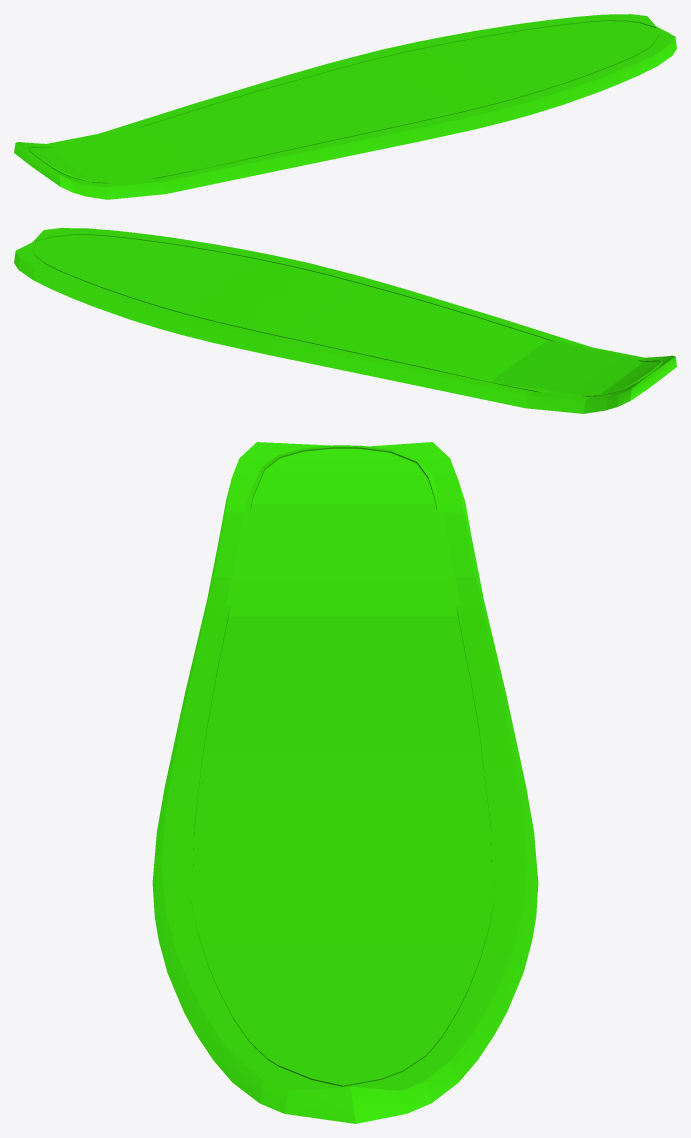
The model's file is Skate.fbx.
3 views of the same model, one above another, from view 1: azimuth 30°, elevation 25°; view 2: azimuth 150°, elevation 25°; view 3: azimuth 270°, elevation 25° (orthographic). The views are drawn at different scales.
Parts seen in each view (by area): view 1: Plane.005, Plane, Plane.006; view 2: Plane.005, Plane, Plane.006; view 3: Plane.005, Plane, Plane.006.
Boxes of the visible parts, x1,y1,x2,y2 form: Plane.005: [28, 21, 658, 182]; Plane: [14, 14, 676, 199]; Plane.006: [28, 19, 658, 183]; Plane.005: [31, 234, 660, 395]; Plane: [14, 228, 676, 413]; Plane.006: [31, 233, 663, 396]; Plane.005: [188, 448, 496, 1085]; Plane: [152, 442, 538, 1123]; Plane.006: [188, 445, 496, 1086].
Bounding box in the file's own units: 553 × 28.35 × 145.
